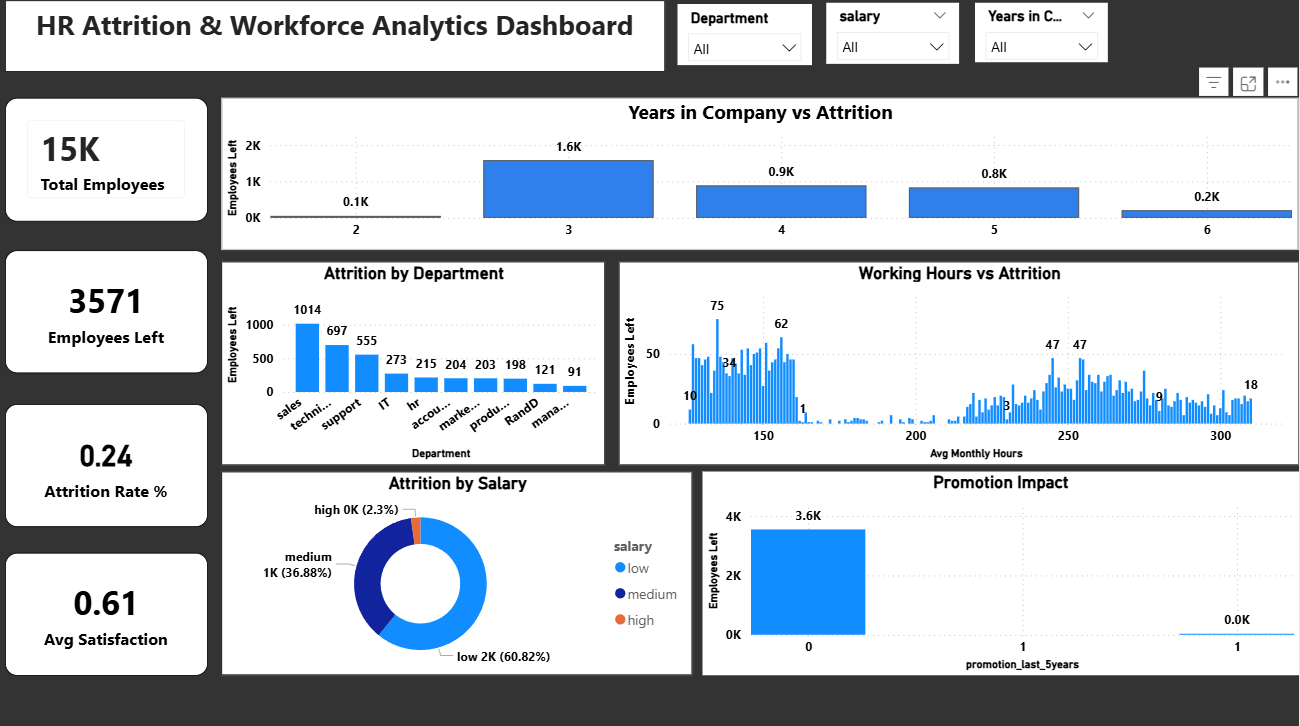

Layout of this report page (visuals, bound fields, positions):
{"tool":"powerbi","page":{"name":"Page 2","canvas":[1280,720],"ordinal":1},"visuals":[{"type":"textbox","box":[9.8,6.1,647.9,70],"z":0},{"type":"cardVisual","fields":{"Data":["HR_comma_sep.Total Employees"]},"box":[10,102,199,121.9],"z":1000},{"type":"card","fields":{"Values":["HR_comma_sep.Employees Left"]},"box":[10,251.3,199,120.7],"z":2000},{"type":"card","fields":{"Values":["HR_comma_sep.Attrition Rate %"]},"box":[10,403,199,121],"z":3000},{"type":"card","fields":{"Values":["HR_comma_sep.Avg Satisfaction"]},"box":[10,548.6,199,120.7],"z":4000},{"type":"clusteredColumnChart","title":"Attrition by Department","fields":{"Category":["HR_comma_sep.Department"],"Y":["HR_comma_sep.Employees Left"]},"box":[222.7,262.5,376.9,200.3],"z":5000},{"type":"donutChart","title":"Attrition by Salary","fields":{"Category":["HR_comma_sep.salary"],"Y":["HR_comma_sep.Employees Left"]},"box":[222.7,469,462.8,200.3],"z":6000},{"type":"columnChart","title":"Working Hours vs Attrition","fields":{"Category":["HR_comma_sep.Avg Monthly Hours"],"Y":["HR_comma_sep.Employees Left"]},"box":[612,262.5,668,200.3],"z":7000},{"type":"columnChart","title":"Promotion Impact","fields":{"Category":["HR_comma_sep.promotion_last_5years"],"Y":["HR_comma_sep.Employees Left"]},"box":[694.1,469,585.9,200.3],"z":8000},{"type":"slicer","fields":{"Values":["HR_comma_sep.Department"]},"box":[670.5,10,131.9,59.7],"z":9000},{"type":"slicer","fields":{"Values":["HR_comma_sep.salary"]},"box":[816,8.7,130.6,59.7],"z":10000},{"type":"slicer","fields":{"Values":["HR_comma_sep.Years in Company"]},"box":[961.6,8.7,130.6,58.5],"z":11000},{"type":"columnChart","title":"Years in Company vs Attrition","fields":{"Category":["HR_comma_sep.Years in Company"],"Y":["HR_comma_sep.Employees Left"]},"box":[222.7,102,1057.4,149.3],"z":12000}]}

Visuals, with their boxes in screenshot pixels (x1, y1, x2, y2), scaled from the page's 1280x720 canvas onto the 1300x726 screenshot:
textbox: region(10, 6, 668, 77)
cardVisual - HR_comma_sep.Total Employees: region(10, 103, 212, 226)
card - HR_comma_sep.Employees Left: region(10, 253, 212, 375)
card - HR_comma_sep.Attrition Rate %: region(10, 406, 212, 528)
card - HR_comma_sep.Avg Satisfaction: region(10, 553, 212, 675)
"Attrition by Department" clusteredColumnChart: region(226, 265, 609, 467)
"Attrition by Salary" donutChart: region(226, 473, 696, 675)
"Working Hours vs Attrition" columnChart: region(622, 265, 1299, 467)
"Promotion Impact" columnChart: region(705, 473, 1299, 675)
slicer - HR_comma_sep.Department: region(681, 10, 815, 70)
slicer - HR_comma_sep.salary: region(829, 9, 961, 69)
slicer - HR_comma_sep.Years in Company: region(977, 9, 1109, 68)
"Years in Company vs Attrition" columnChart: region(226, 103, 1299, 253)
